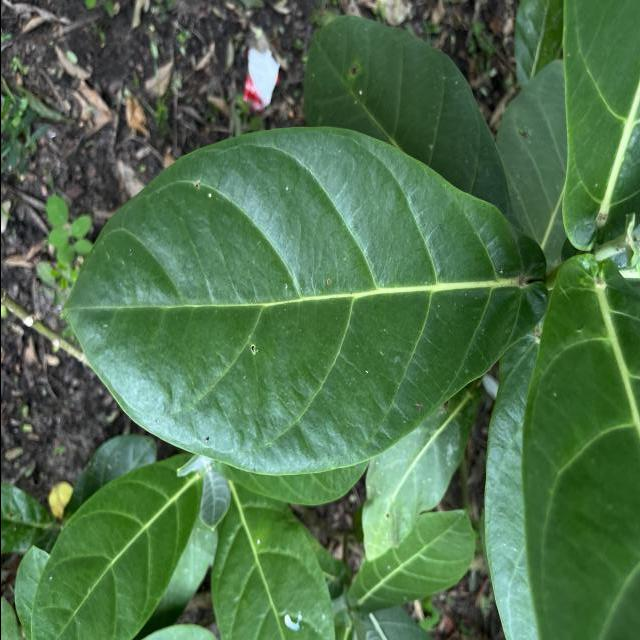Calotropis gigantea: (56, 123, 527, 480), (298, 18, 518, 212), (25, 458, 204, 640)
